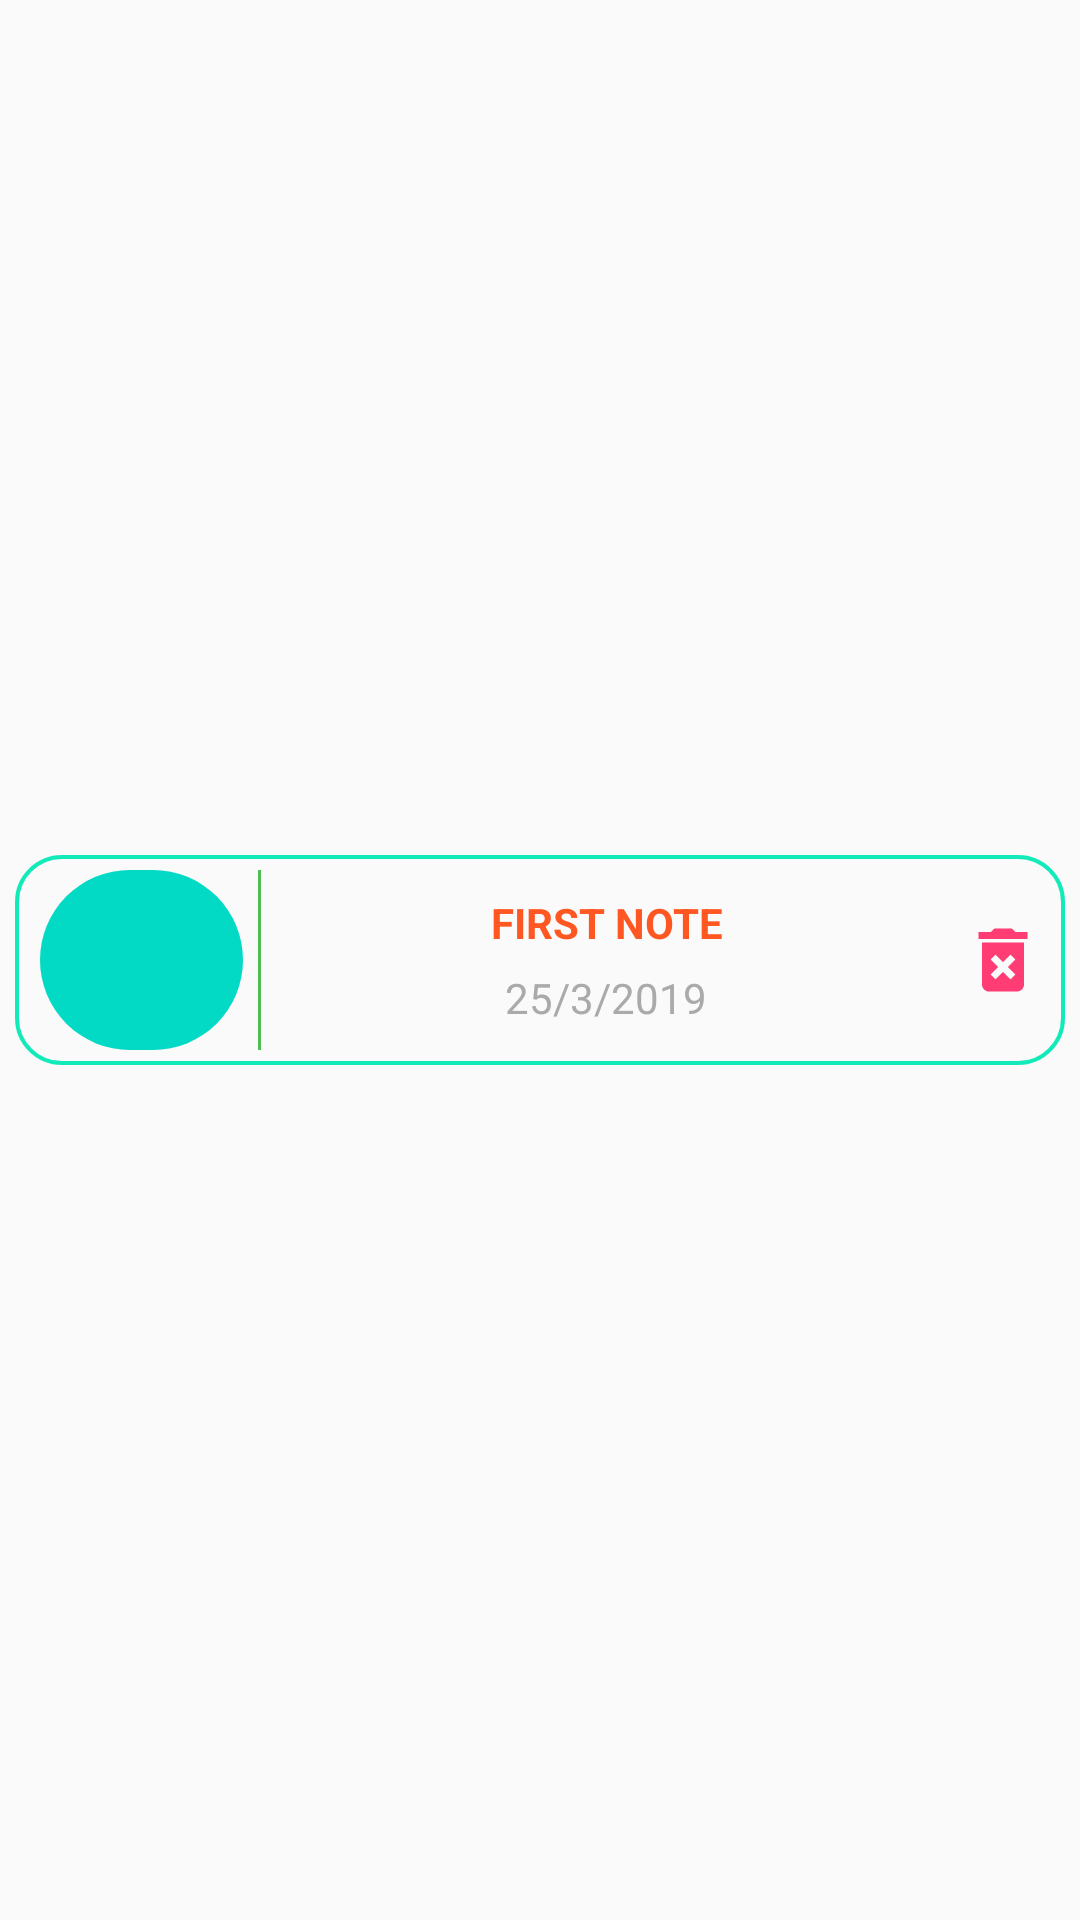

Screen size 1080w x 1920h. Icon name, then its center in pixels as [x,y]:
deleteicon: [1003,960]
